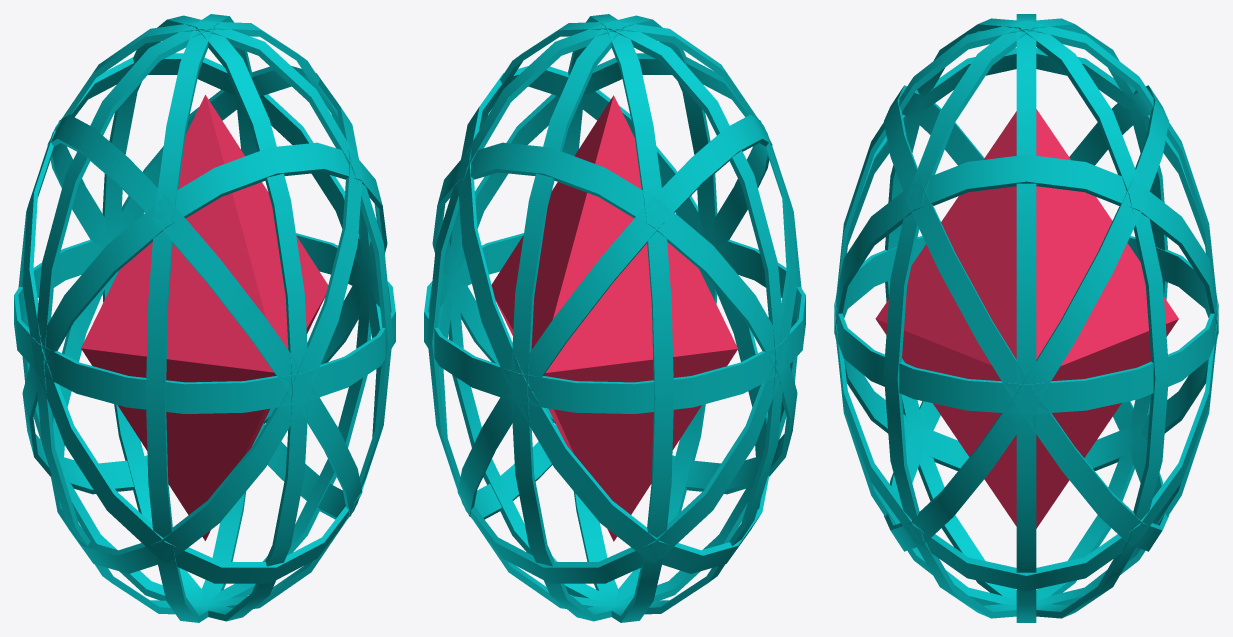
File: Orbe rojo.fbx
3 views of the same model, side by side, from view 1: azimuth 30°, elevation 25°; view 2: azimuth 150°, elevation 25°; view 3: azimuth 270°, elevation 25° (orthographic).
Visible parts, largest first — view 1: polySurface112, polySurface150, polySurface147, polySurface144, polySurface146, polySurface149, polySurface148, polySurface143, polySurface145, polySurface151; view 2: polySurface112, polySurface150, polySurface147, polySurface149, polySurface146, polySurface144, polySurface151, polySurface143, polySurface145, polySurface148; view 3: polySurface112, polySurface147, polySurface148, polySurface151, polySurface143, polySurface149, polySurface144, polySurface146, polySurface145, polySurface150.
Boxes of the visible parts, x1,y1,x2,y2 form: polySurface112: (81, 95, 328, 540); polySurface150: (102, 15, 309, 621); polySurface147: (51, 66, 362, 573); polySurface144: (22, 142, 387, 494); polySurface146: (47, 114, 362, 519); polySurface149: (22, 53, 381, 583); polySurface148: (146, 14, 262, 622); polySurface143: (14, 233, 395, 413); polySurface145: (34, 21, 371, 614); polySurface151: (18, 21, 392, 608); polySurface112: (491, 95, 737, 541); polySurface150: (510, 15, 717, 621); polySurface147: (457, 66, 768, 573); polySurface149: (432, 142, 797, 494); polySurface146: (457, 114, 772, 519); polySurface144: (438, 53, 797, 583); polySurface151: (562, 14, 673, 622); polySurface143: (424, 233, 805, 413); polySurface145: (448, 21, 785, 614); polySurface148: (427, 21, 801, 608); polySurface112: (875, 109, 1178, 528); polySurface147: (834, 154, 1218, 470); polySurface148: (885, 18, 1169, 618); polySurface151: (883, 18, 1167, 618); polySurface143: (834, 236, 1218, 414); polySurface149: (884, 85, 1168, 551); polySurface144: (884, 85, 1168, 551); polySurface146: (834, 48, 1218, 591); polySurface145: (1016, 14, 1036, 622); polySurface150: (834, 20, 1218, 605).
Size of the model in its own units: 0.7308 by 1.23 by 0.7308.
